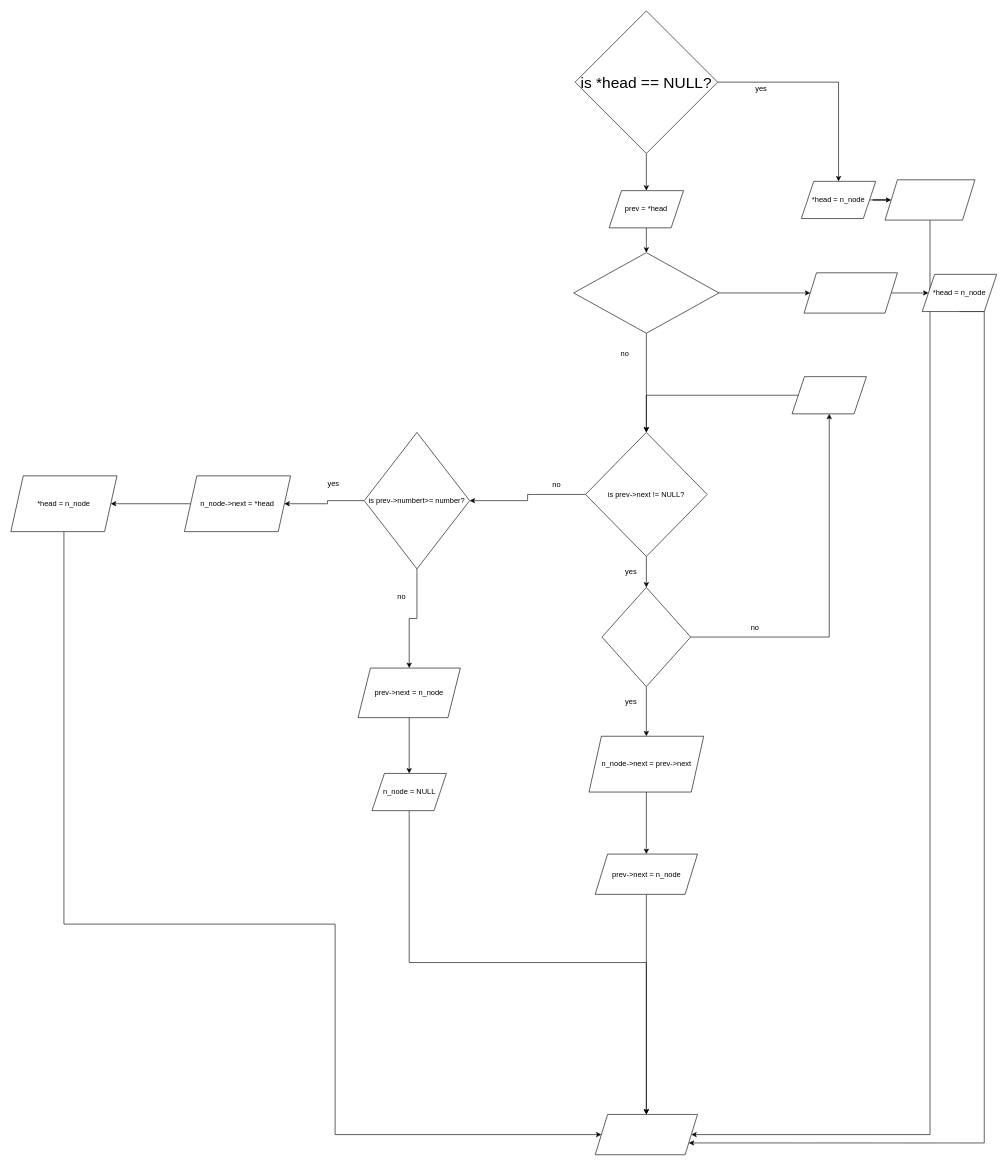
The diagram is 1008 pixels wide and 1166 high, and some of its shapes have lost their labels. Here are the shapes that lost their labels. From the top down, the centre of each, then its label:
At (929,199): "n_node->next = NULL".
At (646,292): "is p_node -> n >= number".
At (850,292): "n_node->next = prev".
At (828,395): "prev = prev->next".
At (646,637): "is prev->next>= number?".
At (646,1134): "return n".
